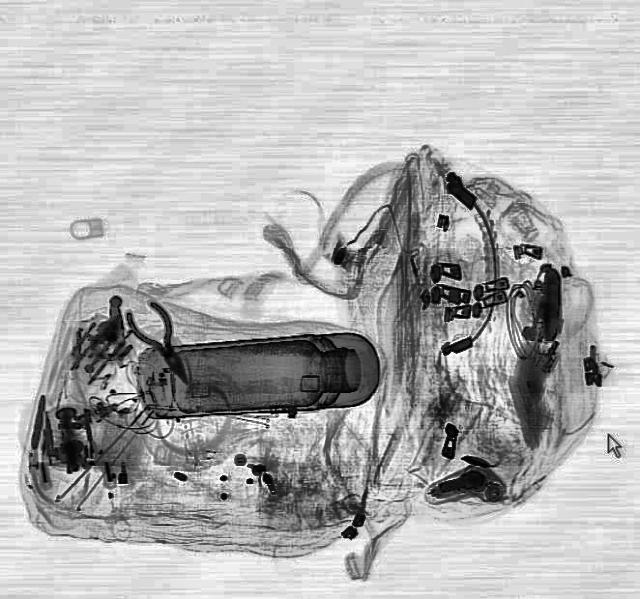Pliers: (120, 296, 206, 389)
